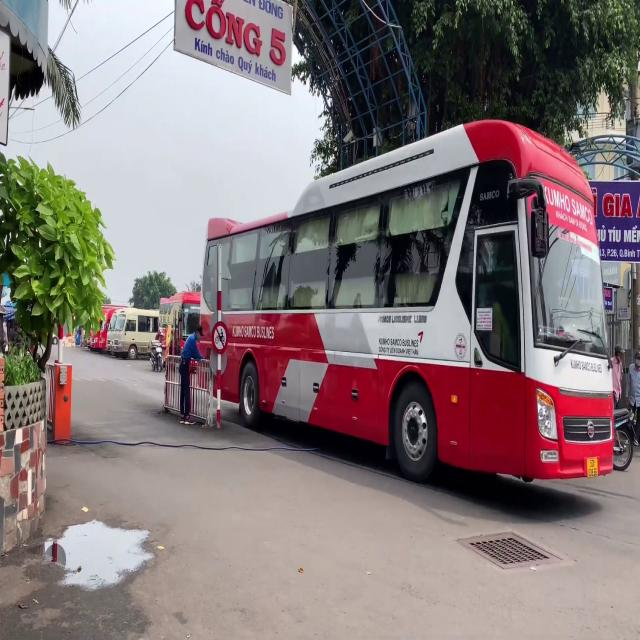bien_vang: (586, 457, 598, 477)
